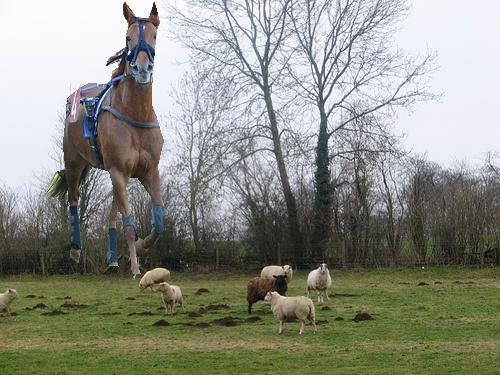tampered: (47, 3, 168, 274)
